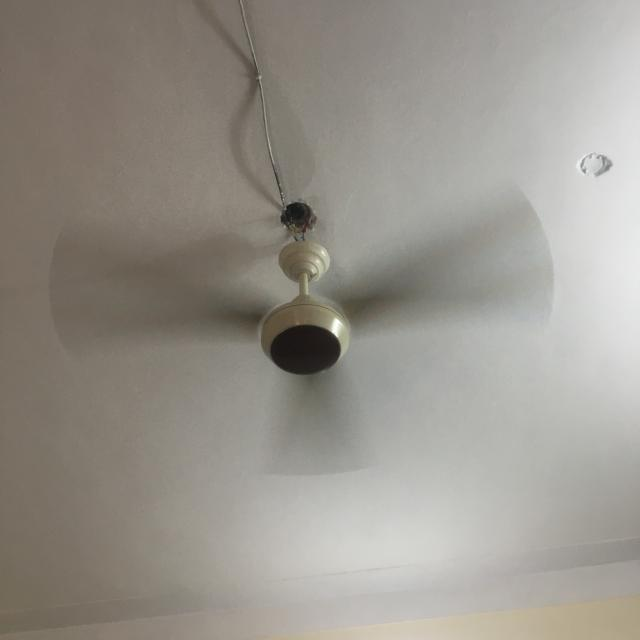on: (33, 176, 568, 484)
